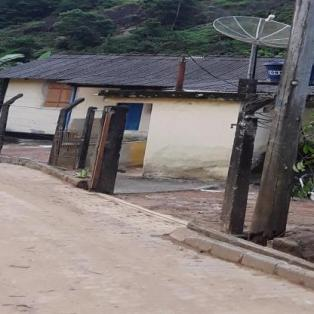Poste: (254, 0, 313, 246)
